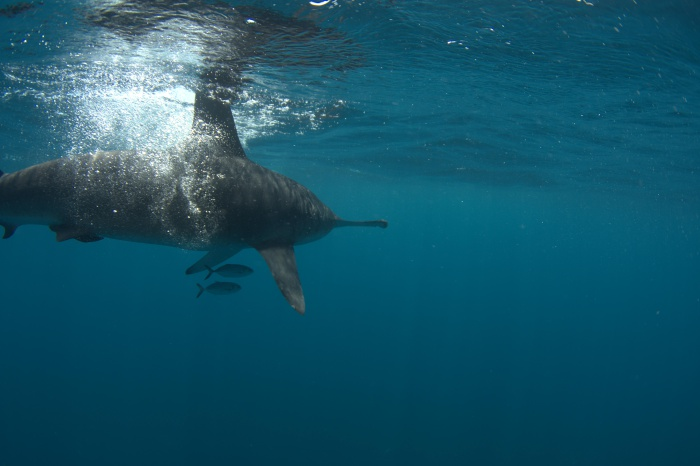Hammer: (1, 91, 394, 338), (259, 183, 500, 300)
